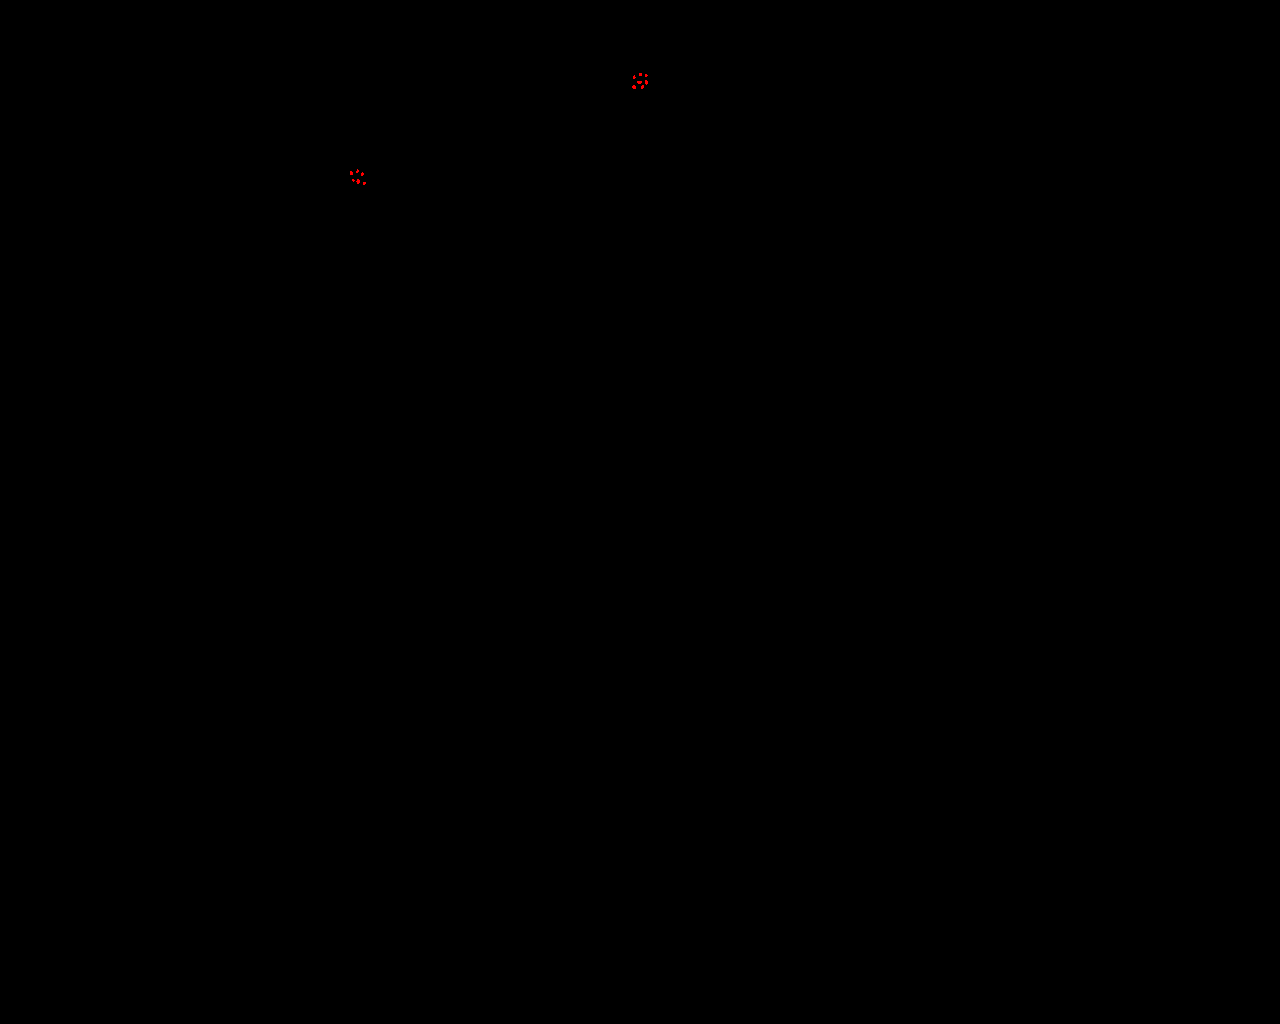Target: (356, 179, 360, 184), (632, 85, 636, 89), (633, 75, 636, 79), (645, 80, 648, 85), (641, 85, 644, 89), (356, 169, 359, 173), (645, 74, 648, 77), (350, 171, 353, 174), (360, 172, 364, 176), (352, 179, 355, 182), (363, 182, 366, 185), (637, 82, 642, 84), (639, 73, 642, 76)
